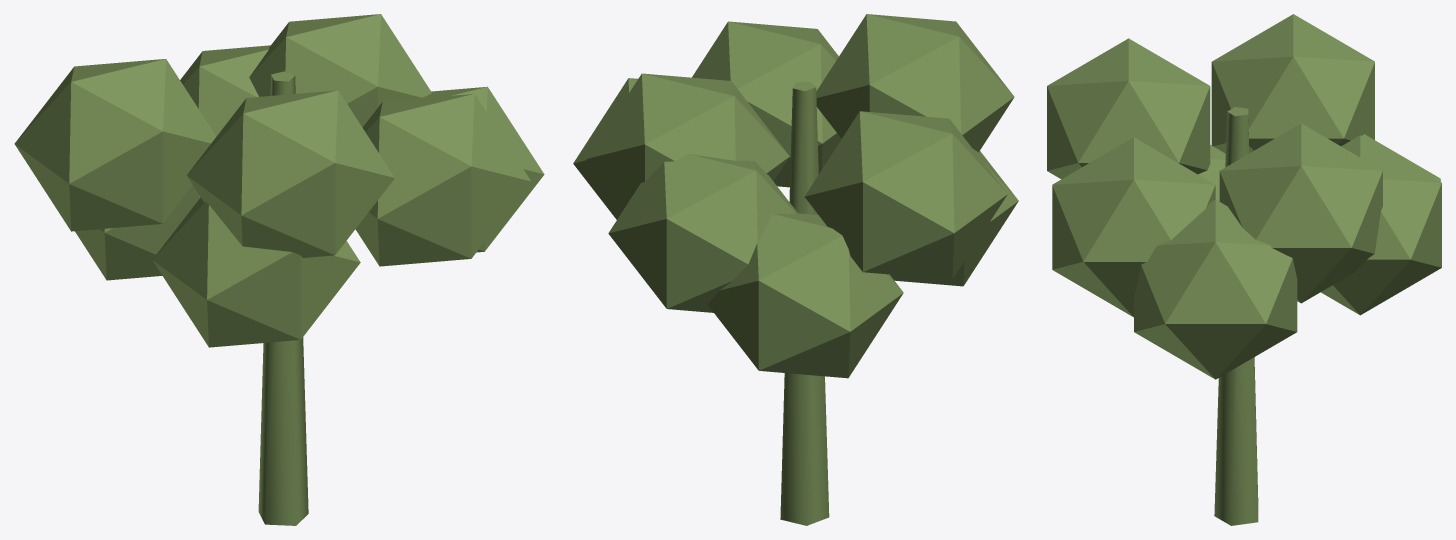
3 views of the same model, side by side, from view 1: azimuth 30°, elevation 25°; view 2: azimuth 150°, elevation 25°; view 3: azimuth 270°, elevation 25° (orthographic). The views are drawn at different scales.
Visible parts, largest first — view 1: shadow-crown; view 2: shadow-crown; view 3: shadow-crown.
Part boxes in pixels (left/top/right/bottom): shadow-crown: left=14, top=14, right=544, bottom=525; shadow-crown: left=573, top=14, right=1018, bottom=525; shadow-crown: left=1047, top=14, right=1441, bottom=525.
Bounding box in the file's own units: 7.94 × 8.25 × 6.81.
